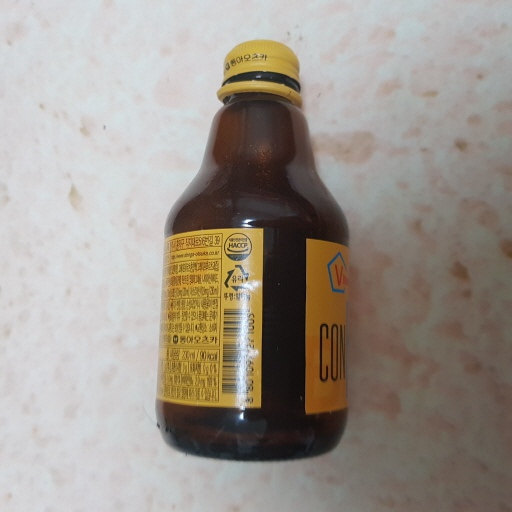Glass_3: (156, 40, 352, 465)
